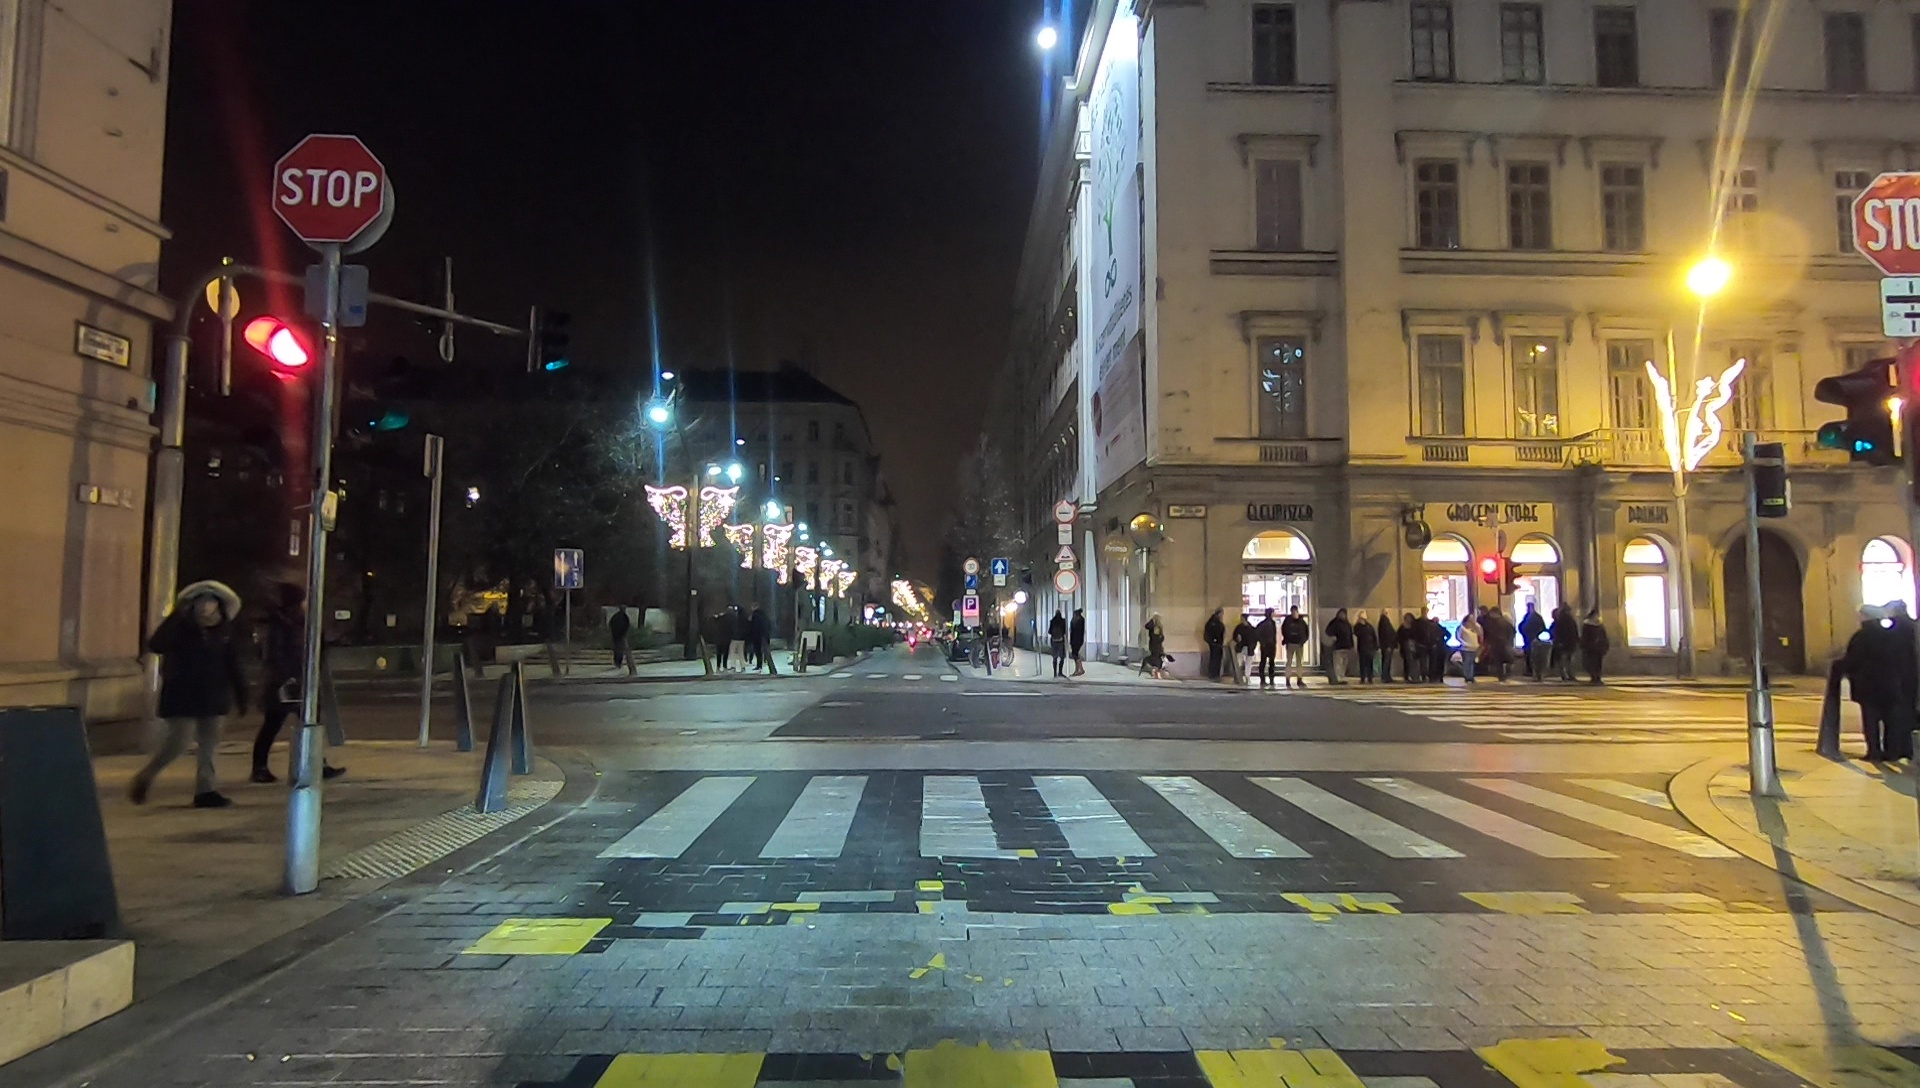person: (149, 580, 247, 826), (260, 580, 347, 789), (1884, 602, 1920, 765), (1852, 608, 1889, 760), (1328, 608, 1356, 682), (1582, 617, 1610, 682), (1486, 613, 1512, 680), (1551, 606, 1576, 676), (1454, 613, 1478, 684), (1519, 608, 1545, 671), (1288, 613, 1310, 686), (1378, 615, 1399, 686), (1358, 611, 1378, 682), (1067, 613, 1089, 674), (714, 610, 732, 671), (1049, 611, 1067, 669), (1238, 613, 1256, 674), (751, 611, 769, 671), (1202, 608, 1219, 669), (1264, 611, 1276, 691), (612, 606, 626, 660)
